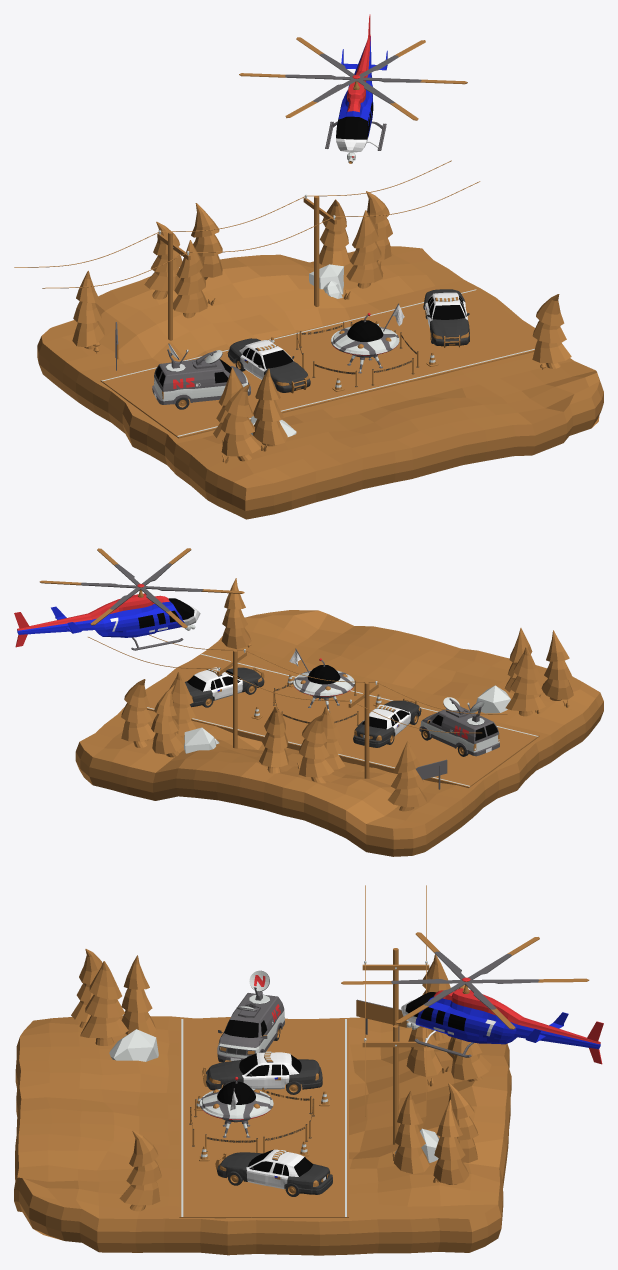
Rendered from Low_Poly_UFO_Scene-207cb85b.glb.
The picture shows the model from 3 angles, top to bottom: view 1: azimuth 30°, elevation 25°; view 2: azimuth 150°, elevation 25°; view 3: azimuth 270°, elevation 25°; orthographic projection. The views are drawn at different scales.
Parts seen in each view (by area): view 1: Plane.001_M16_0, Plane.004_M14_0, Cube_M1_0, Circle.004_M17_0, Circle.011_M17_0, Circle.003_M17_0, Circle.005_M17_0, Circle.006_M17_0, Plane.000_M20_0, Circle.009_M17_0, Circle.008_M17_0, Cube.021_M1_0 (+16 smaller); view 2: Plane.001_M16_0, Plane.004_M14_0, Plane.002_M12_0, Cube_M1_0, Circle.009_M17_0, Circle.002_M17_0, Circle_M17_0, Circle.007_M17_0, Circle.001_M17_0, Plane.000_M20_0, Plane.002_M7_0, Circle.004_M17_0 (+23 smaller); view 3: Plane.001_M16_0, Plane.004_M14_0, Plane.002_M12_0, Circle.005_M17_0, Cube_M1_0, Circle.011_M17_0, Plane.000_M20_0, Circle.003_M17_0, Plane.002_M7_0, Circle_M17_0, Circle.002_M17_0, Cube.021_M1_0 (+22 smaller).
Boxes of the visible parts, <box> form: Plane.001_M16_0: <box>37,246,603,519</box>; Plane.004_M14_0: <box>100,289,537,438</box>; Cube_M1_0: <box>152,343,250,404</box>; Circle.004_M17_0: <box>220,384,261,456</box>; Circle.011_M17_0: <box>532,294,571,363</box>; Circle.003_M17_0: <box>346,210,383,283</box>; Circle.005_M17_0: <box>253,368,287,445</box>; Circle.006_M17_0: <box>173,240,207,313</box>; Plane.000_M20_0: <box>157,196,336,340</box>; Circle.009_M17_0: <box>72,270,104,347</box>; Circle.008_M17_0: <box>191,203,222,277</box>; Cube.021_M1_0: <box>285,53,421,103</box>; Plane.001_M16_0: <box>75,610,603,856</box>; Plane.004_M14_0: <box>146,653,539,787</box>; Plane.002_M12_0: <box>17,600,184,637</box>; Cube_M1_0: <box>419,698,499,756</box>; Circle.009_M17_0: <box>388,741,426,807</box>; Circle.002_M17_0: <box>505,647,545,711</box>; Circle_M17_0: <box>121,679,155,741</box>; Circle.007_M17_0: <box>299,715,333,777</box>; Circle.001_M17_0: <box>151,685,184,754</box>; Plane.000_M20_0: <box>217,650,378,778</box>; Plane.002_M7_0: <box>14,584,169,647</box>; Circle.004_M17_0: <box>541,630,573,699</box>; Plane.001_M16_0: <box>14,1015,511,1255</box>; Plane.004_M14_0: <box>179,1019,348,1218</box>; Plane.002_M12_0: <box>415,996,600,1049</box>; Circle.005_M17_0: <box>80,961,128,1037</box>; Cube_M1_0: <box>217,970,284,1060</box>; Circle.011_M17_0: <box>119,1130,161,1205</box>; Plane.000_M20_0: <box>362,948,429,1144</box>; Circle.003_M17_0: <box>394,1090,429,1173</box>; Plane.002_M7_0: <box>434,977,603,1064</box>; Circle_M17_0: <box>433,1099,469,1184</box>; Circle.002_M17_0: <box>121,955,156,1035</box>; Cube.021_M1_0: <box>391,951,539,1009</box>.
Size of the model in its own units: 3163 by 1499 by 3310.
